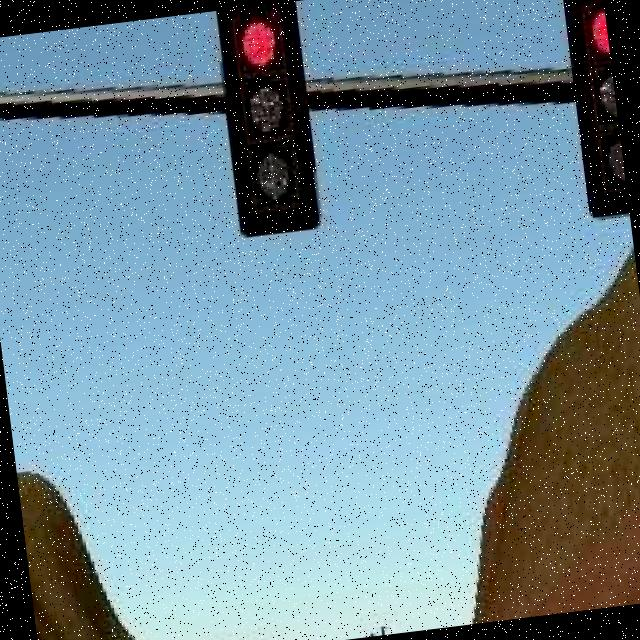Czerwone swiatlo: (222, 4, 321, 237), (561, 0, 629, 215)
